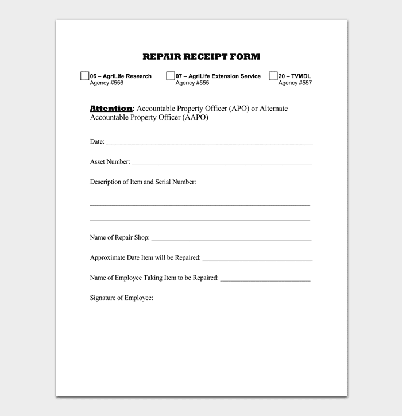checkbox: (165, 71, 176, 82), (268, 70, 279, 81), (80, 71, 90, 80)
textline: (89, 197, 310, 206), (90, 213, 311, 222), (106, 137, 314, 146), (131, 157, 313, 166), (151, 233, 313, 242), (201, 252, 314, 263), (219, 272, 312, 283)
